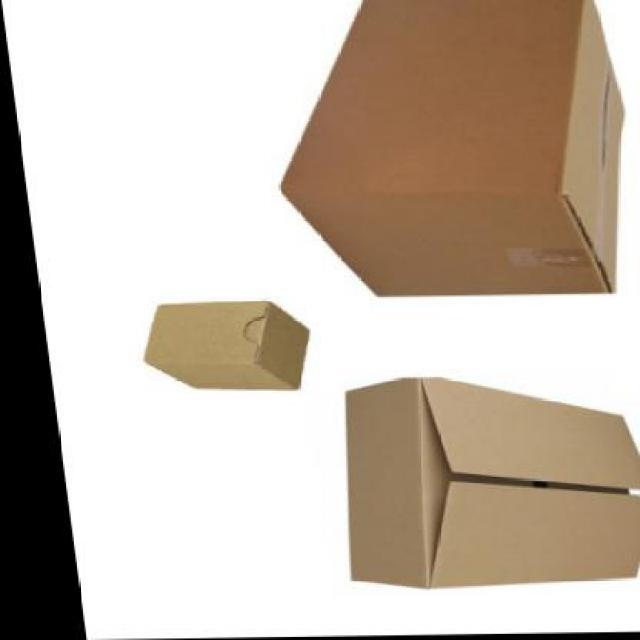box: (256, 0, 638, 297), (312, 372, 638, 590), (132, 300, 308, 388)
